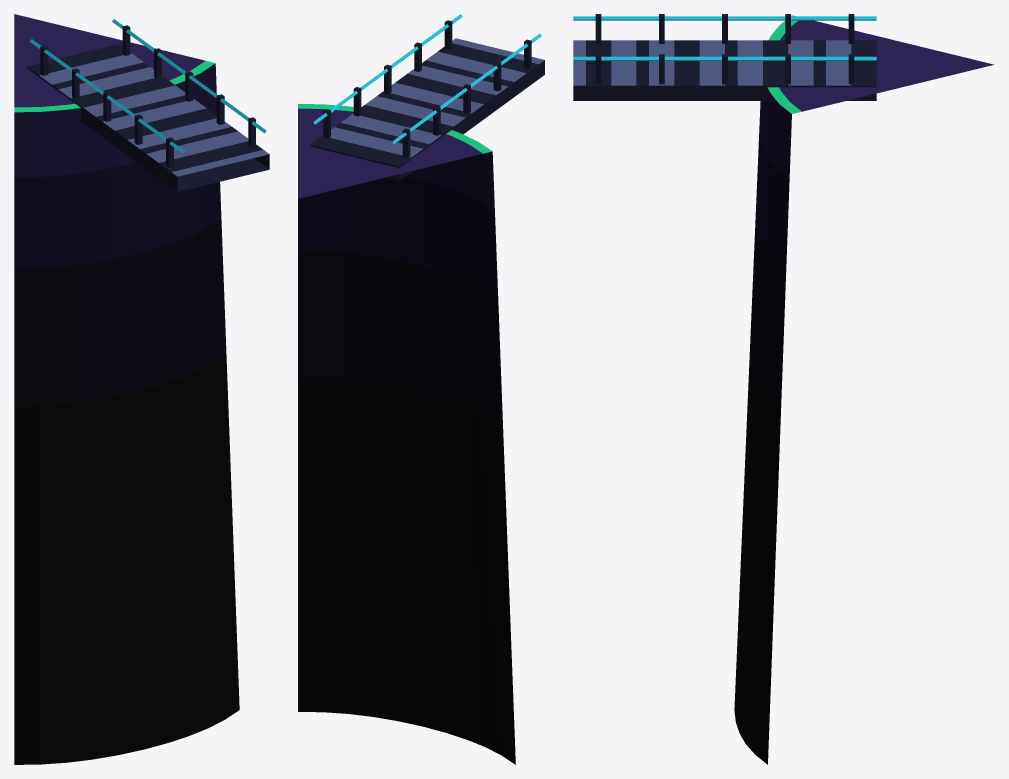
Rendered from MODULE_ALIEN_BRIDGEHEAD_1.fbx.
The picture shows the model from 3 angles, left to right: view 1: azimuth 30°, elevation 25°; view 2: azimuth 150°, elevation 25°; view 3: azimuth 270°, elevation 25°; orthographic projection. The views are drawn at different scales.
Parts seen in each view (by area): view 1: MODULE_ALIEN_BRIDGEHEAD_1__export, MODULE_ALIEN_BRIDGEHEAD_1_DECOR__export; view 2: MODULE_ALIEN_BRIDGEHEAD_1__export, MODULE_ALIEN_BRIDGEHEAD_1_DECOR__export; view 3: MODULE_ALIEN_BRIDGEHEAD_1__export, MODULE_ALIEN_BRIDGEHEAD_1_DECOR__export.
Part boxes in pixels (bbox=[...]): MODULE_ALIEN_BRIDGEHEAD_1__export: bbox=[14, 14, 269, 764]; MODULE_ALIEN_BRIDGEHEAD_1_DECOR__export: bbox=[30, 19, 266, 167]; MODULE_ALIEN_BRIDGEHEAD_1__export: bbox=[298, 38, 544, 764]; MODULE_ALIEN_BRIDGEHEAD_1_DECOR__export: bbox=[313, 14, 541, 157]; MODULE_ALIEN_BRIDGEHEAD_1__export: bbox=[573, 15, 993, 764]; MODULE_ALIEN_BRIDGEHEAD_1_DECOR__export: bbox=[573, 14, 876, 84].
Size of the model in its own units: 53.82 by 153 by 86.6.
